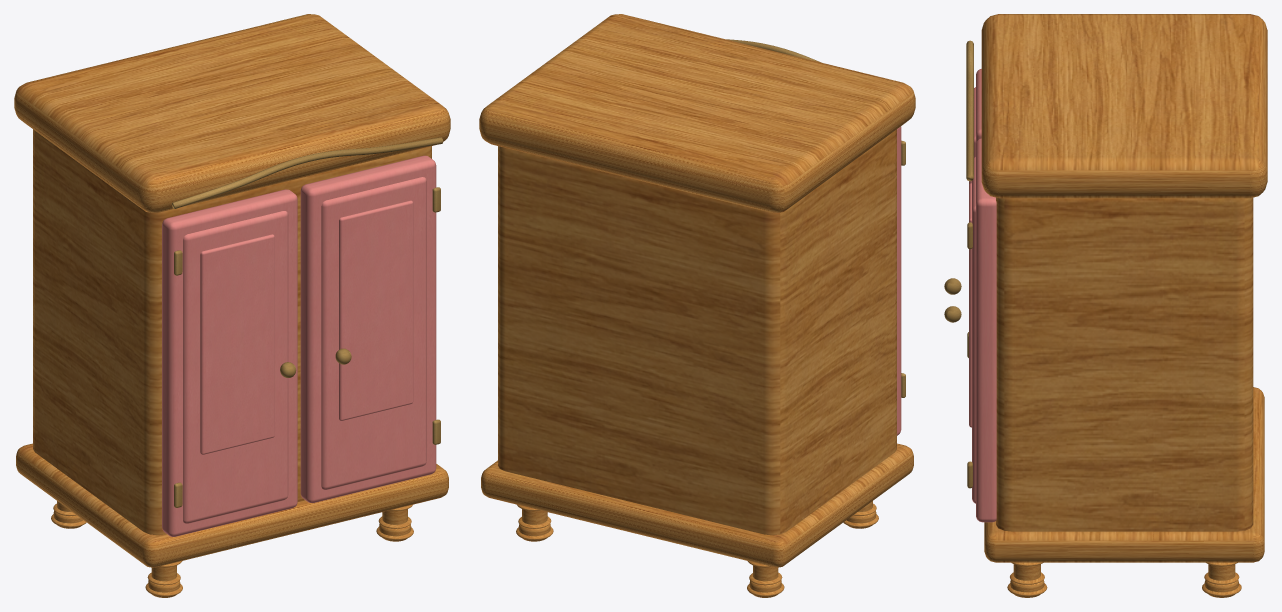
Rendered from SM_InteriorAdditions_BedroomCabinet.fbx.
The picture shows the model from 3 angles, left to right: view 1: azimuth 30°, elevation 25°; view 2: azimuth 150°, elevation 25°; view 3: azimuth 270°, elevation 25°; orthographic projection. The views are drawn at different scales.
Visible parts, largest first — view 1: SM_InteriorAdditions_BedroomCabinet; view 2: SM_InteriorAdditions_BedroomCabinet; view 3: SM_InteriorAdditions_BedroomCabinet.
Part boxes in pixels (x1=…): SM_InteriorAdditions_BedroomCabinet: x1=14, y1=14, x2=450, y2=597; SM_InteriorAdditions_BedroomCabinet: x1=479, y1=14, x2=915, y2=597; SM_InteriorAdditions_BedroomCabinet: x1=944, y1=14, x2=1267, y2=597.
Size of what is drawn, in the model's own units: 66.9 by 58.8 by 90.
